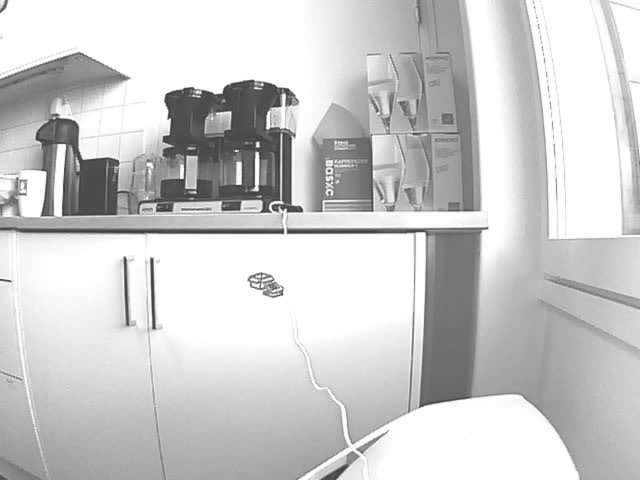not empty coffee: (221, 138, 273, 196)
